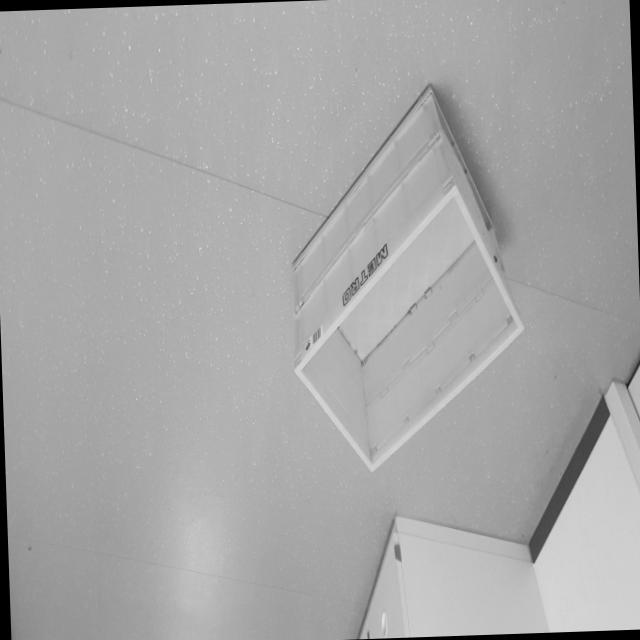box: (272, 78, 538, 492)
